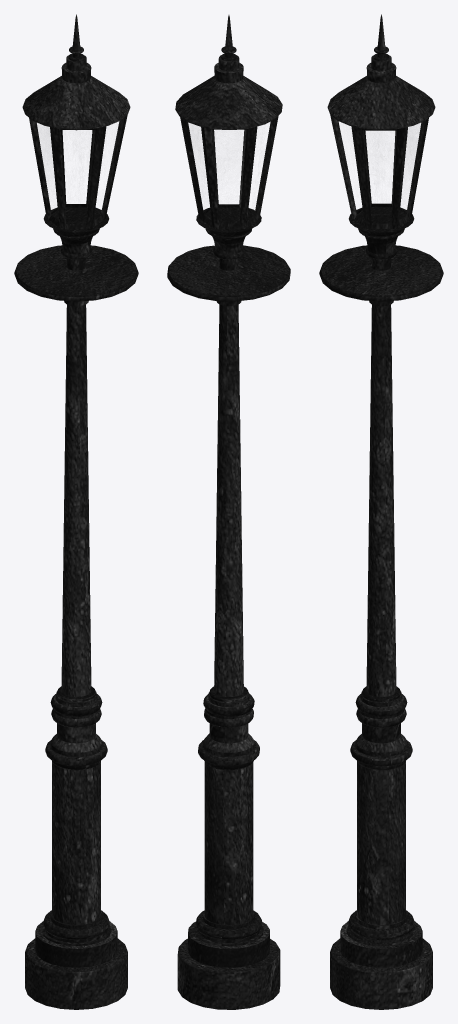
File: old_lamp_street.glb
3 renders of one model, left to right at view 1: azimuth 90°, elevation 25°; view 2: azimuth 150°, elevation 25°; view 3: azimuth 270°, elevation 25°, orthographic.
Parts seen in each view (by area): view 1: Cylinder; view 2: Cylinder; view 3: Cylinder.
Part boxes in pixels (x1,y1,x2,y2): Cylinder: (14, 14, 138, 1009); Cylinder: (167, 15, 290, 1009); Cylinder: (319, 14, 443, 1009).
Size of the model in its own units: 1.11 by 9.6 by 1.11.
2 materials, 2 textured.
